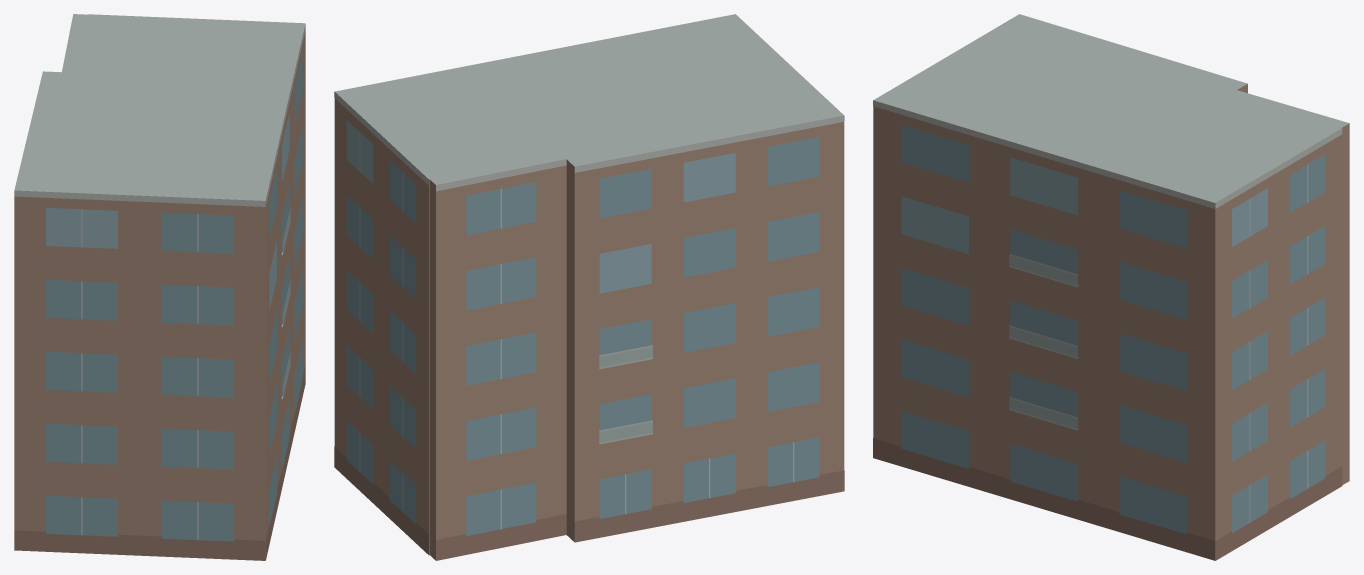
File: survey-upis-33012457.glb
The picture shows the model from 3 angles, left to right: view 1: azimuth 30°, elevation 25°; view 2: azimuth 150°, elevation 25°; view 3: azimuth 270°, elevation 25°; orthographic projection. The views are drawn at different scales.
Visible parts, largest first — view 1: survey-upis-33012457.tmp; view 2: survey-upis-33012457.tmp; view 3: survey-upis-33012457.tmp.
Boxes of the visible parts, x1,y1,x2,y2 form: survey-upis-33012457.tmp: (14, 14, 305, 560); survey-upis-33012457.tmp: (334, 14, 844, 560); survey-upis-33012457.tmp: (873, 14, 1349, 560).
Bounding box in the file's own units: 16.64 × 14.67 × 17.72.
